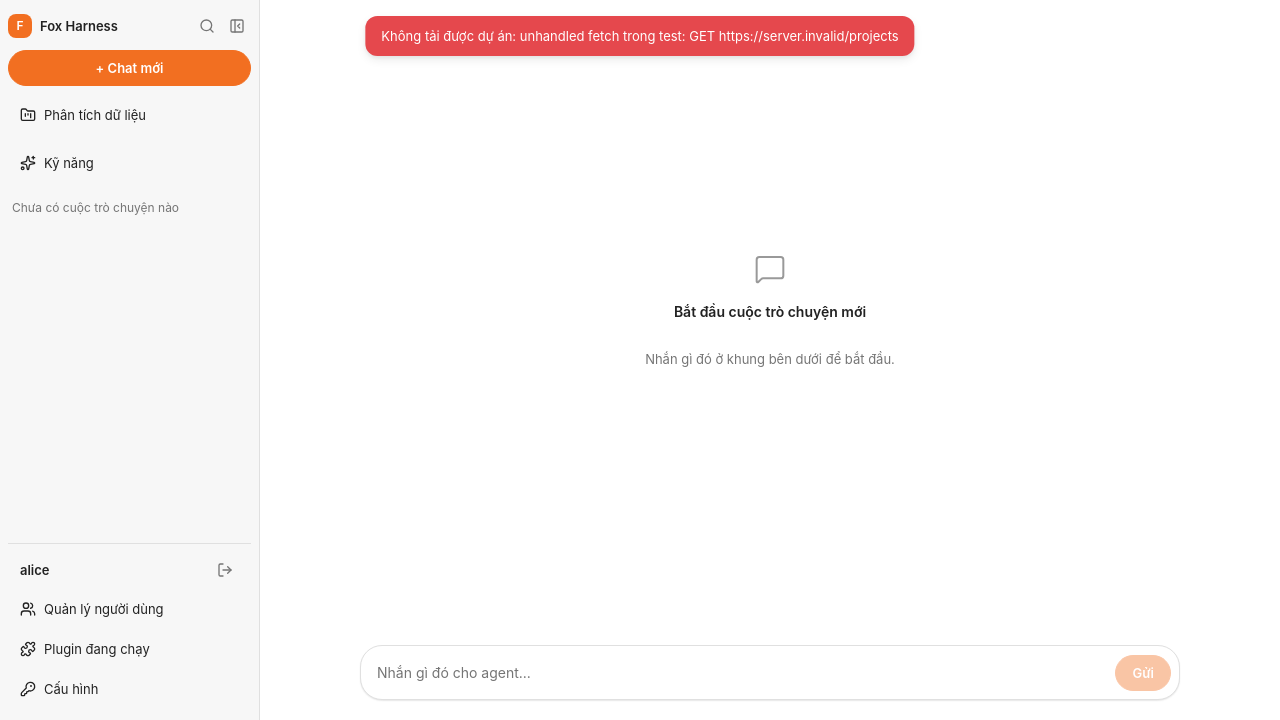
Scenario: Phase 9.4 — App smoke test › luồng gửi tin nhắn đầu tiên (REST tạo session, WS chỉ subscribe) › bấm "Phân tích dữ liệu" -> mở project hub; chưa chọn project thì không hiện composer/workspace của một session tuỳ ý
The image size is (1280, 720).
What coordinates should you click on to do the following:
click the button "Phân tích dữ liệu"
I would click on:
 (130, 115)
Its box is [8,96,251,134].
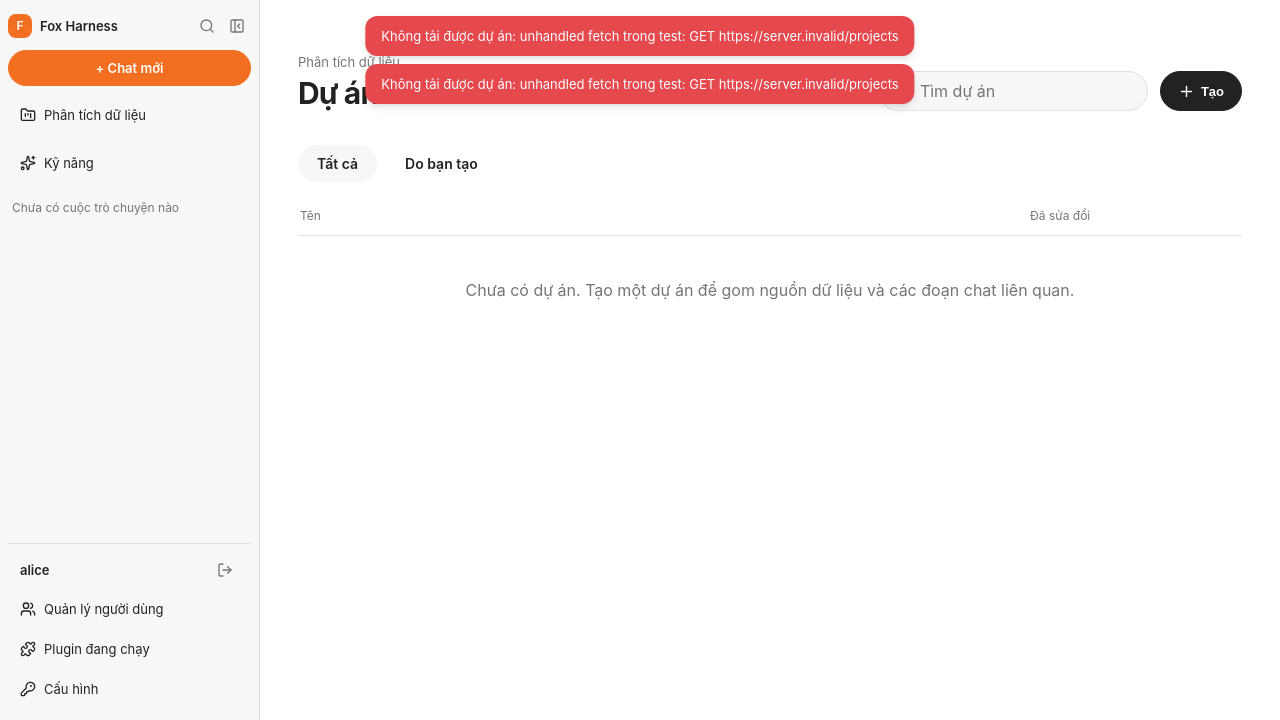
Expected: the field with placeholder "Nhắn gì đó cho agent..." is not shown
Expected: the heading "Dự án" is shown, [298,75,378,111]
Expected: the field with placeholder "Tìm dự án" is shown, [918,80,1133,102]
